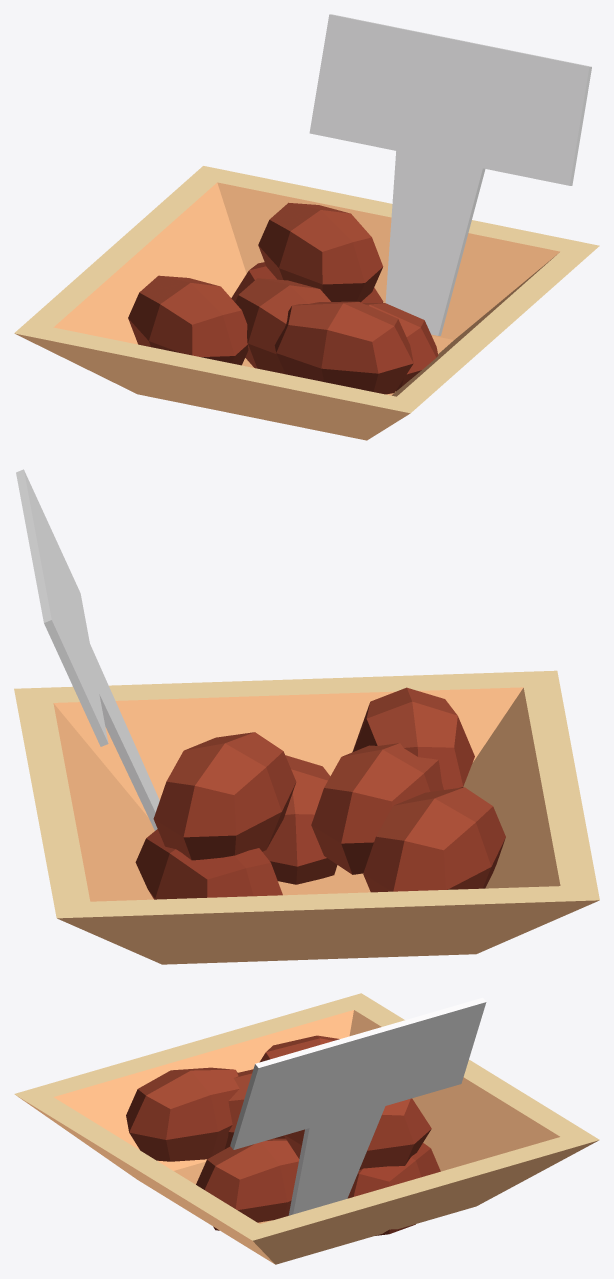
The model's file is brownSeeds-positioned.glb.
3 renders of one model, top to bottom at view 1: azimuth 30°, elevation 25°; view 2: azimuth 150°, elevation 25°; view 3: azimuth 270°, elevation 25°, orthographic. The views are drawn at different scales.
Parts seen in each view (by area): view 1: brownSeeds; view 2: brownSeeds; view 3: brownSeeds.
Boxes of the visible parts, x1,y1,x2,y2 form: brownSeeds: (14, 14, 599, 440); brownSeeds: (14, 469, 599, 964); brownSeeds: (14, 993, 599, 1264).
Size of the model in its own units: 0.5594 by 0.2815 by 0.5594.
Materials: 1 (1 with a texture image).
